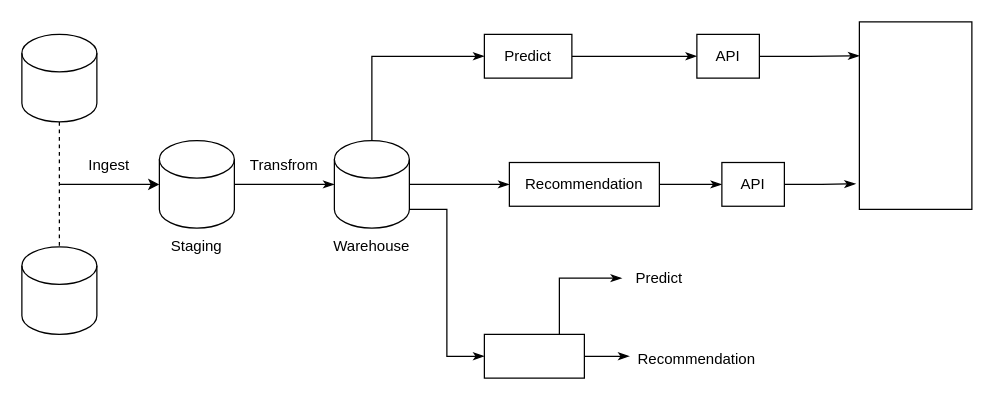
Image size: 994x400. Some labels were removed from this diagram. Each missing label, with the box of its shape:
Visualization: (483, 333, 584, 378)
Web App Calls: (858, 21, 972, 209)
